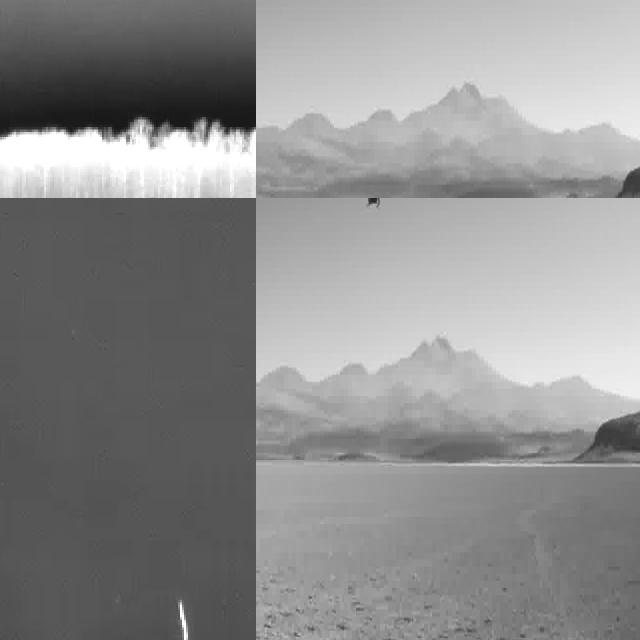0: (105, 586, 133, 619)
drone: (351, 198, 397, 216)
